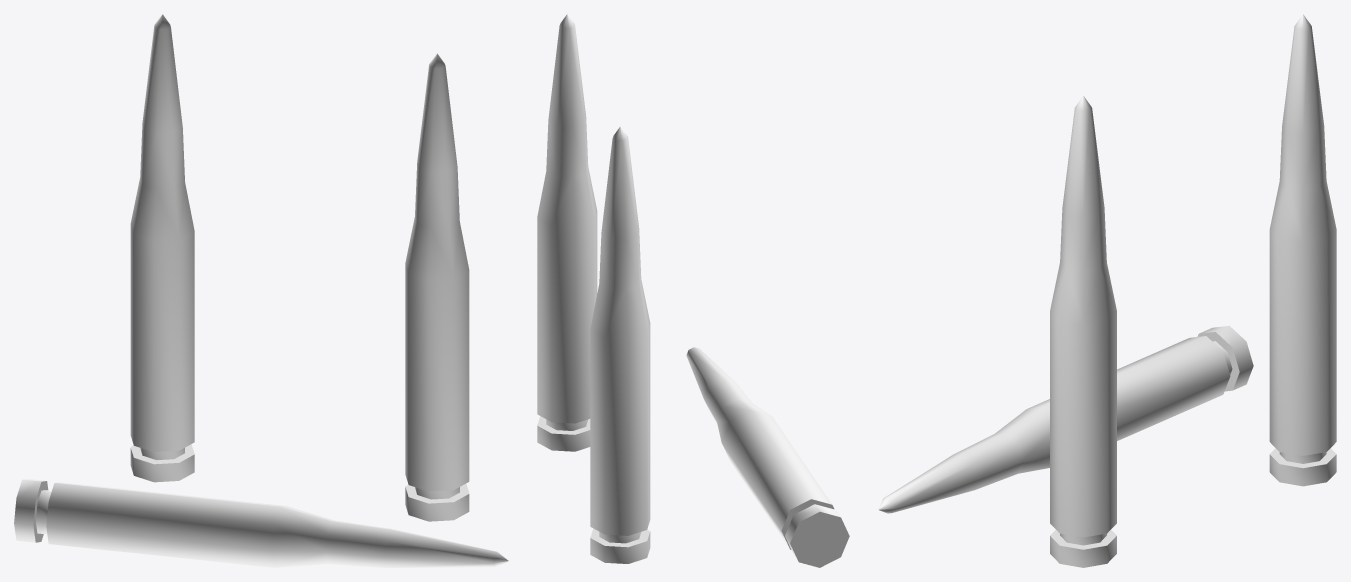
File: bullet.ico.obj
3 views of the same model, side by side, from view 1: azimuth 30°, elevation 25°; view 2: azimuth 150°, elevation 25°; view 3: azimuth 270°, elevation 25° (orthographic). The views are drawn at different scales.
Size of the model in its own units: 4.25 by 4.73 by 4.28.
Materials: 1 (1 with a texture image).
